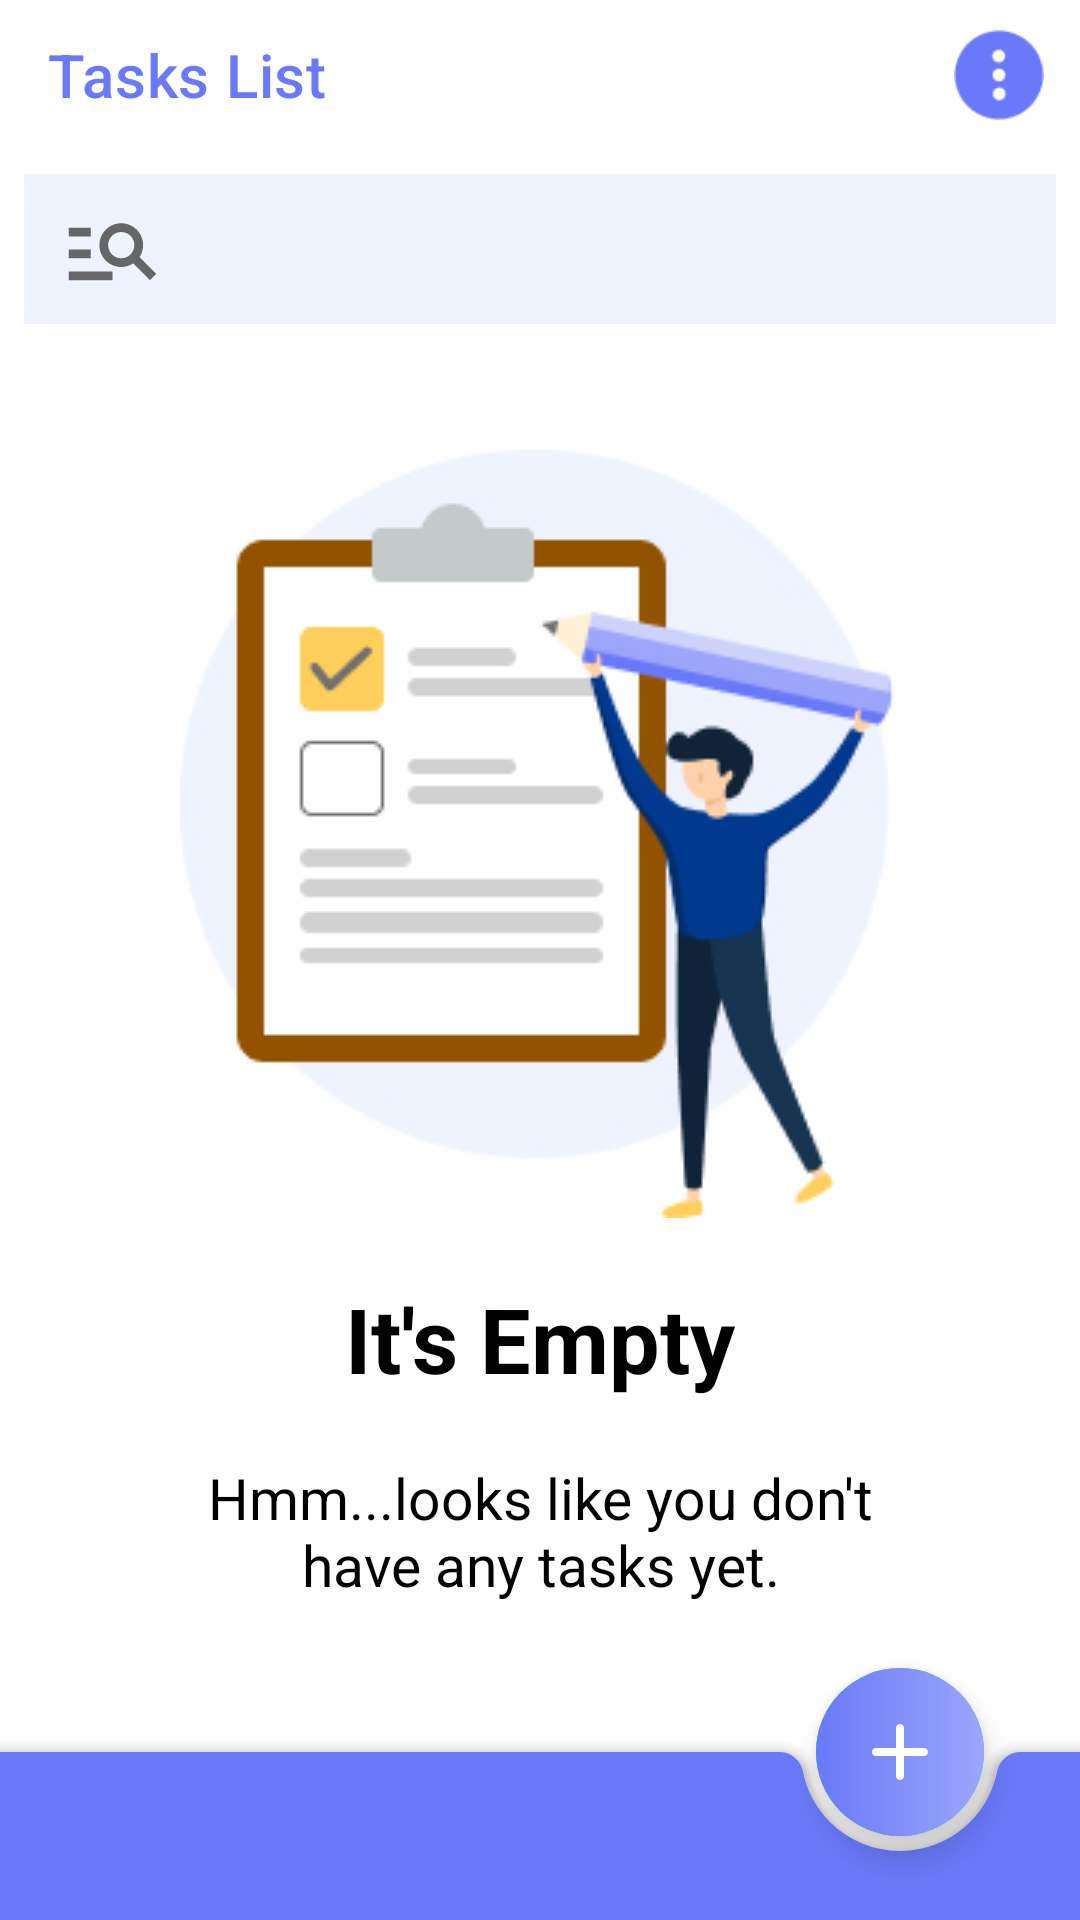

Named icons in this screenshot (1080 × 1920) and their centers, [x,y]:
menu: [999,75]
